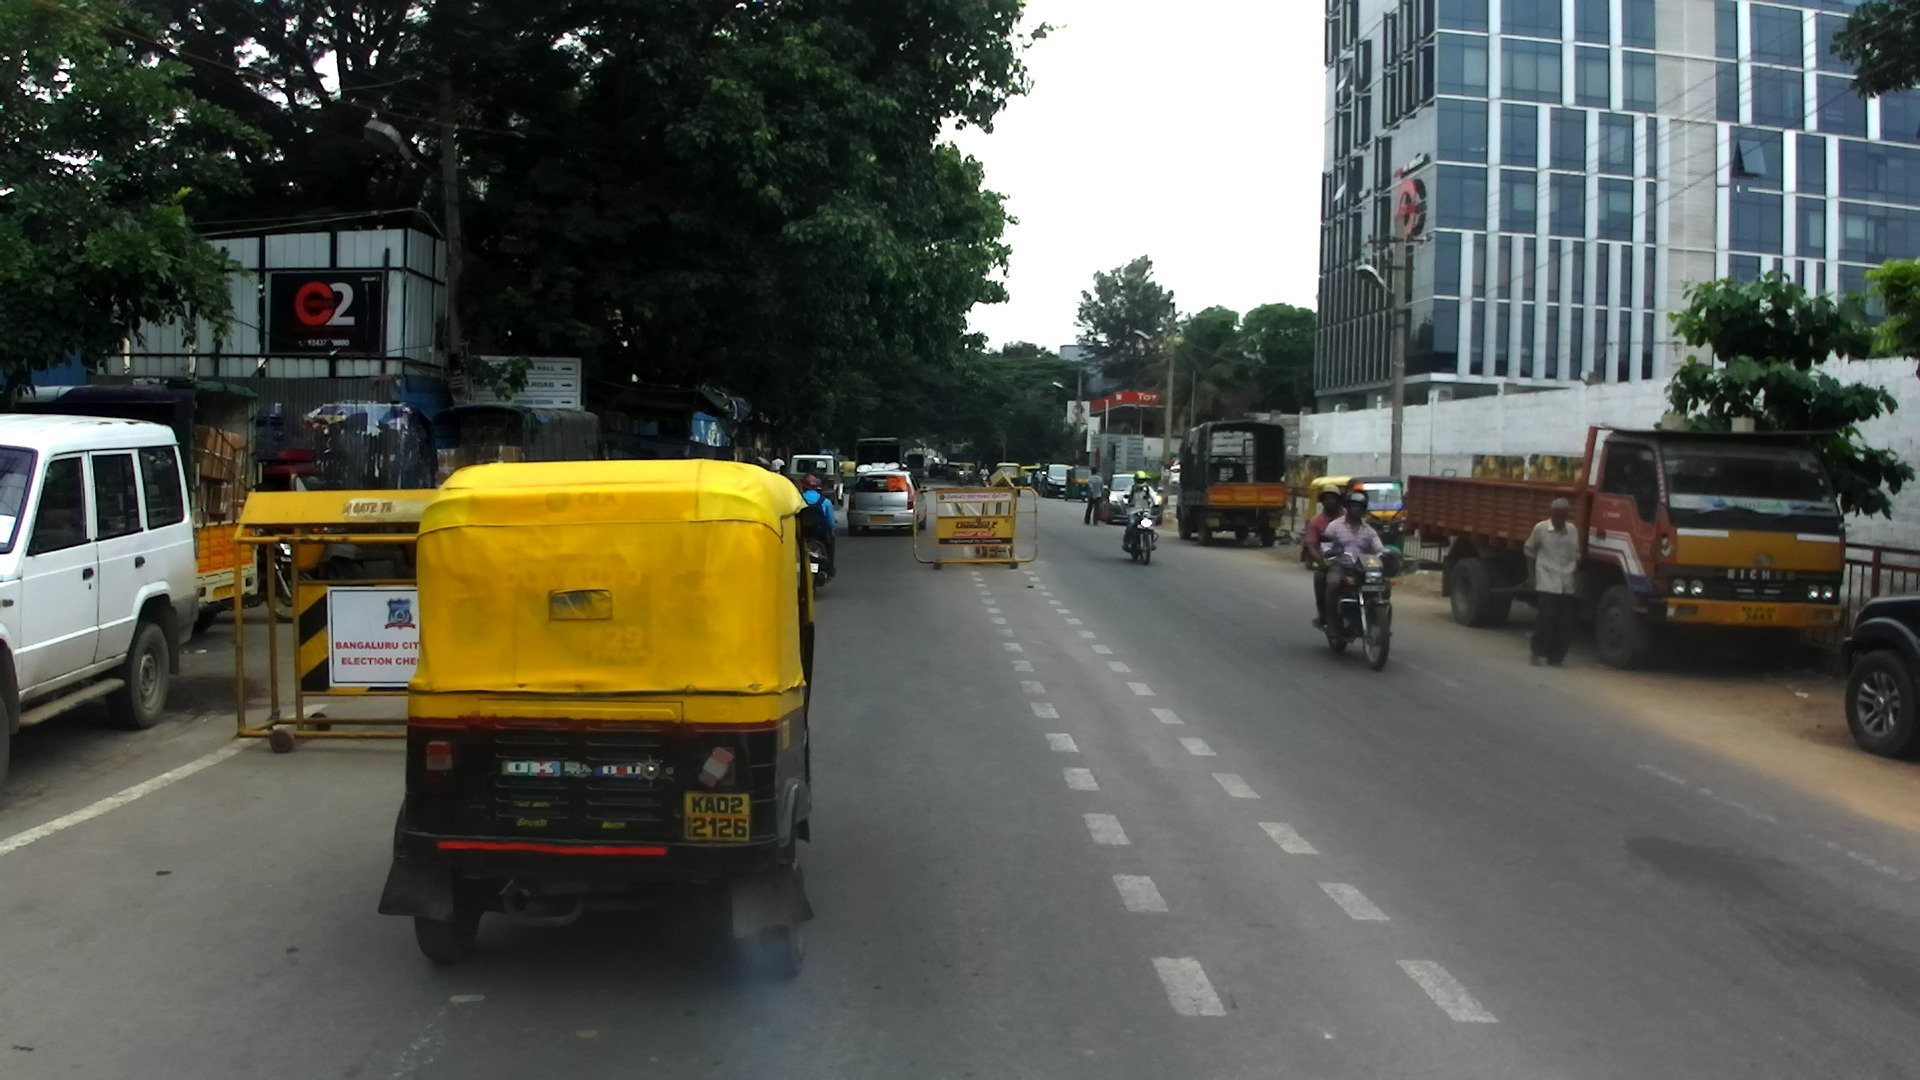autorickshaw: (371, 459, 819, 982), (253, 464, 363, 597), (1300, 475, 1409, 575), (1064, 465, 1093, 502), (995, 462, 1022, 496), (840, 460, 856, 493), (958, 462, 977, 485), (1020, 465, 1042, 487)
car: (1, 412, 200, 784), (1843, 591, 1918, 758), (846, 470, 927, 537), (1096, 473, 1165, 525), (788, 454, 845, 508), (1039, 463, 1075, 498), (929, 463, 949, 479), (946, 462, 963, 480)
motorcycle: (1318, 531, 1398, 670), (217, 531, 327, 631), (1123, 494, 1159, 565), (805, 519, 838, 588), (978, 473, 991, 489), (957, 472, 966, 487)
person: (1519, 495, 1585, 669), (1084, 466, 1103, 526), (770, 455, 787, 473), (1030, 469, 1040, 493), (1037, 466, 1045, 494), (779, 465, 793, 482)
rider: (1319, 489, 1401, 638), (1304, 482, 1349, 630), (799, 474, 837, 577), (1117, 470, 1161, 552), (978, 462, 990, 481), (814, 477, 823, 495), (957, 465, 965, 480)
truck: (1405, 422, 1846, 672), (1, 374, 263, 642), (425, 401, 605, 489), (1176, 419, 1289, 547), (855, 436, 902, 484), (907, 453, 925, 480)
